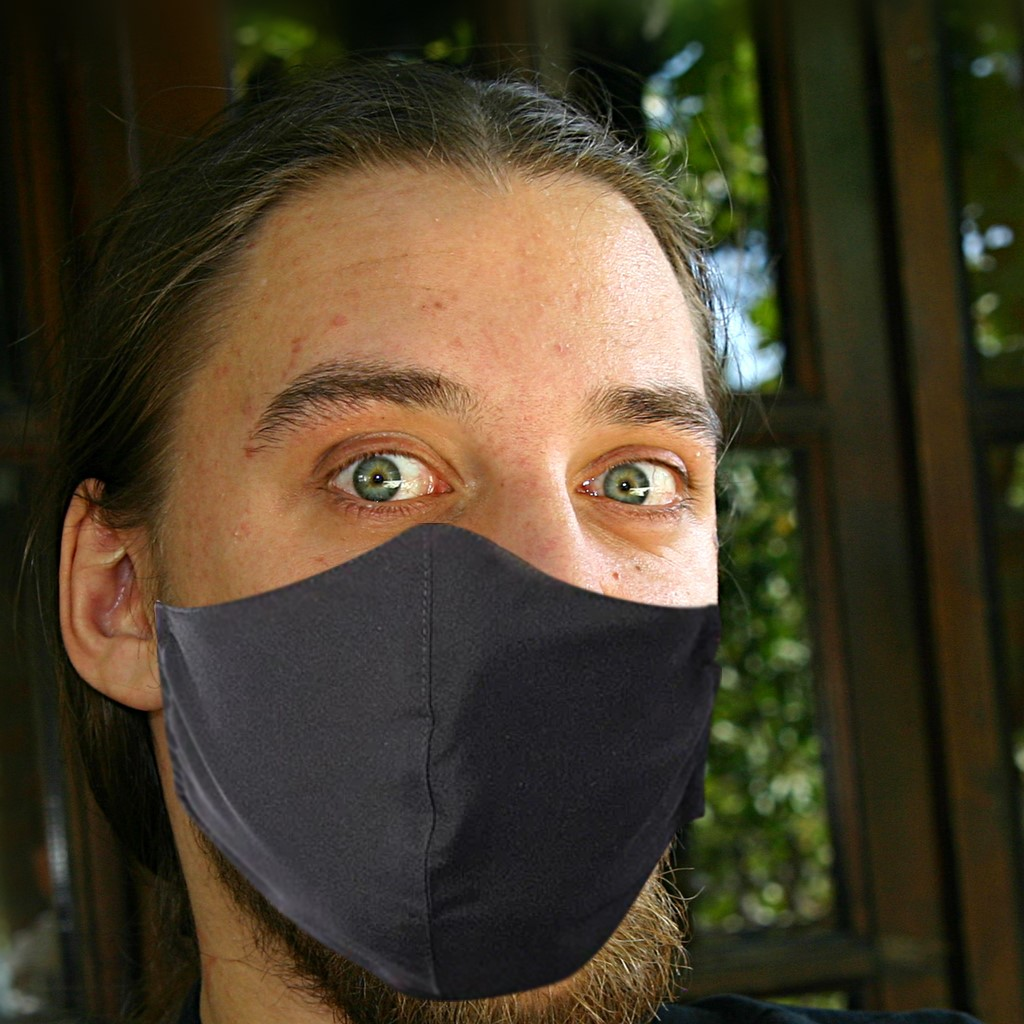con_mascara: (126, 144, 724, 998)
